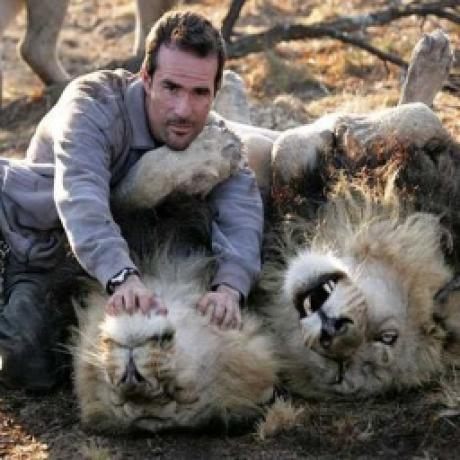Lion: (262, 183, 451, 406), (61, 249, 283, 431)
